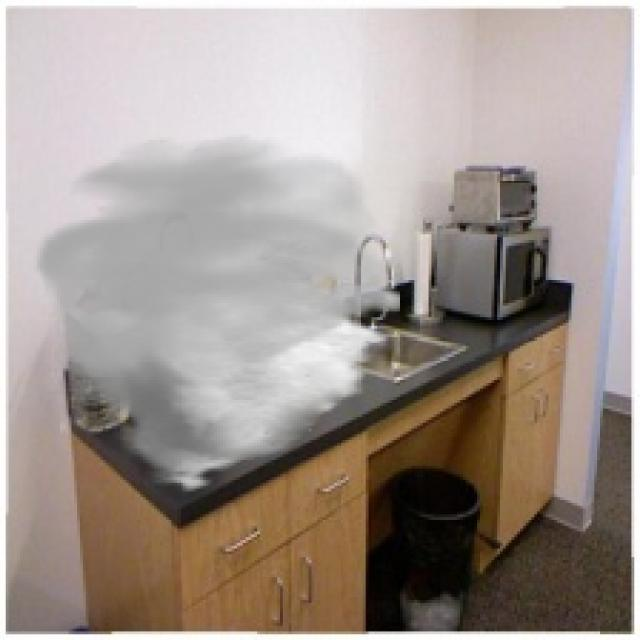smoke: (29, 134, 400, 494)
